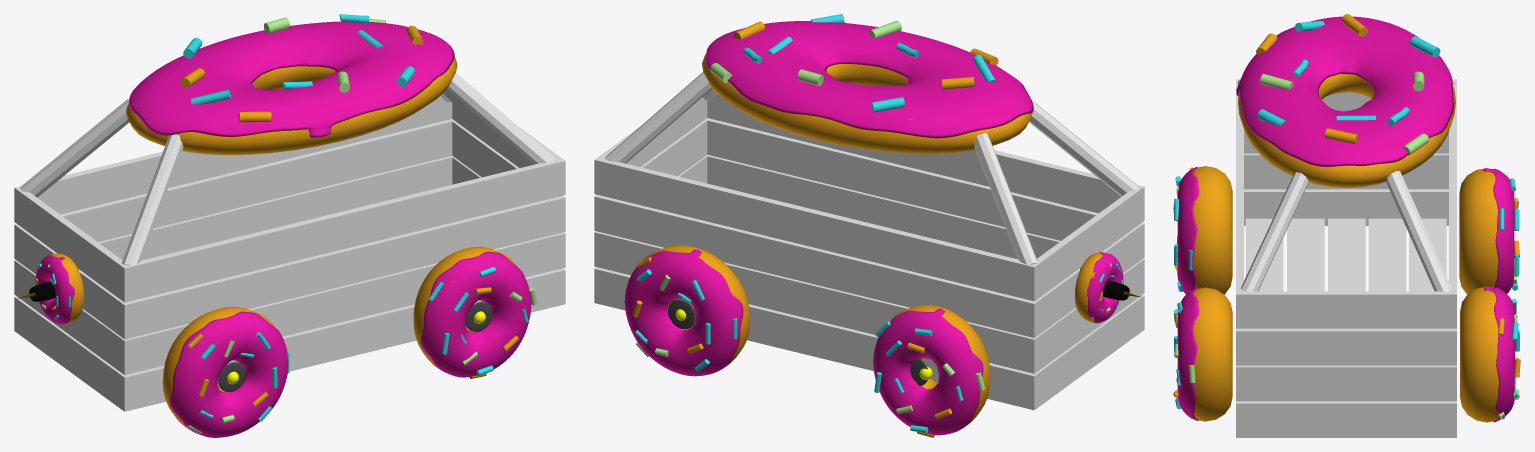
The model's file is cardDonut5.fbx.
3 views of the same model, side by side, from view 1: azimuth 30°, elevation 25°; view 2: azimuth 150°, elevation 25°; view 3: azimuth 270°, elevation 25° (orthographic).
Visible parts, largest first — view 1: icing.004, Cube.011, Cube.010, Cube.005, icing.001, icing, Cube.003, Cube.009, Cube.007, Cube.008, Cube.017, Cube.020 (+11 smaller); view 2: icing.004, Cube.007, Cube.005, Cube.010, icing.002, icing.003, Cube.009, Cube.003, Cube.011, Cube.001, Cube.017, Cube.020 (+10 smaller); view 3: icing.004, Cube.014, Cube.013, Cube.016, Cube.015, icing.002, icing, icing.001, icing.003, Cube.020, Cube.019, Cube.002 (+12 smaller).
Part boxes in pixels (x1,y1,x2,y2): icing.004: (126,21,457,154); Cube.011: (121,158,561,300); Cube.010: (121,197,558,337); Cube.005: (14,119,454,241); icing.001: (162,307,288,437); icing: (413,247,531,377); Cube.003: (15,156,452,261); Cube.009: (121,233,562,373); Cube.007: (15,96,452,214); Cube.008: (121,269,562,409); Cube.017: (14,188,131,302); Cube.020: (14,296,131,411); icing.004: (702,21,1033,154); Cube.007: (601,159,1037,299); Cube.005: (597,195,1037,336); Cube.010: (705,118,1098,240); icing.002: (624,245,750,376); icing.003: (873,305,990,435); Cube.009: (706,154,1144,261); Cube.003: (597,231,1028,371); Cube.011: (707,95,1143,213); Cube.001: (596,267,1036,408); Cube.017: (1027,186,1144,301); Cube.020: (1027,295,1144,410); icing.004: (1236,16,1455,187); Cube.014: (1236,328,1456,365); Cube.013: (1236,291,1456,328); Cube.016: (1236,401,1456,437); Cube.015: (1236,365,1456,401); icing.002: (1460,286,1514,422); icing: (1177,287,1232,421); icing.001: (1177,166,1232,294); icing.003: (1459,168,1514,294); Cube.020: (1244,189,1448,225); Cube.019: (1244,153,1448,189); Cube.002: (1368,218,1406,291).
Bounding box in the file's own units: 210 × 121 × 128.
